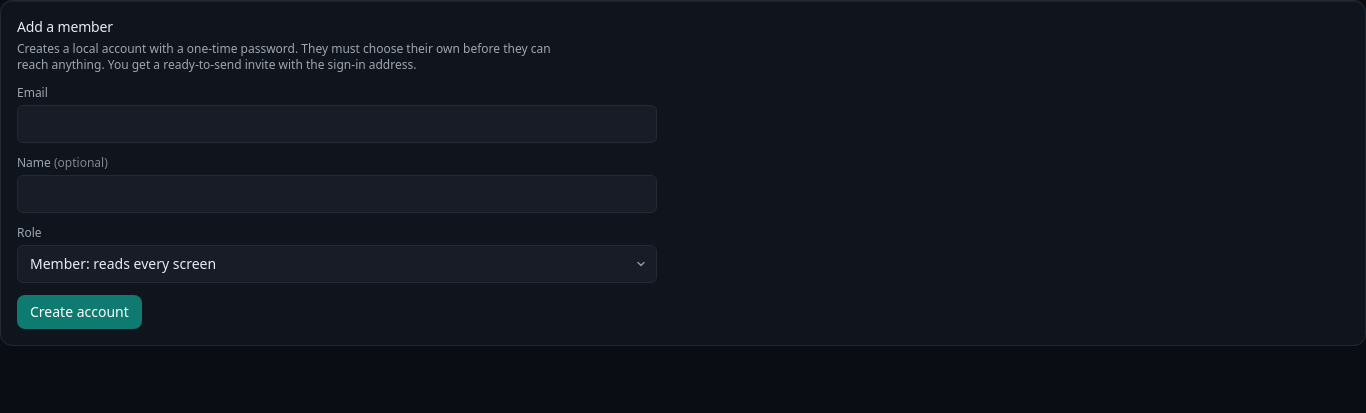
Scenario: CreateUser (W15-04) › surfaces the duplicate-address refusal rather than a generic failure
Type "dana@example.com" into the field with test id "create-user-email".
click(337, 124); type("dana@example.com")  # box [17, 105, 657, 143]
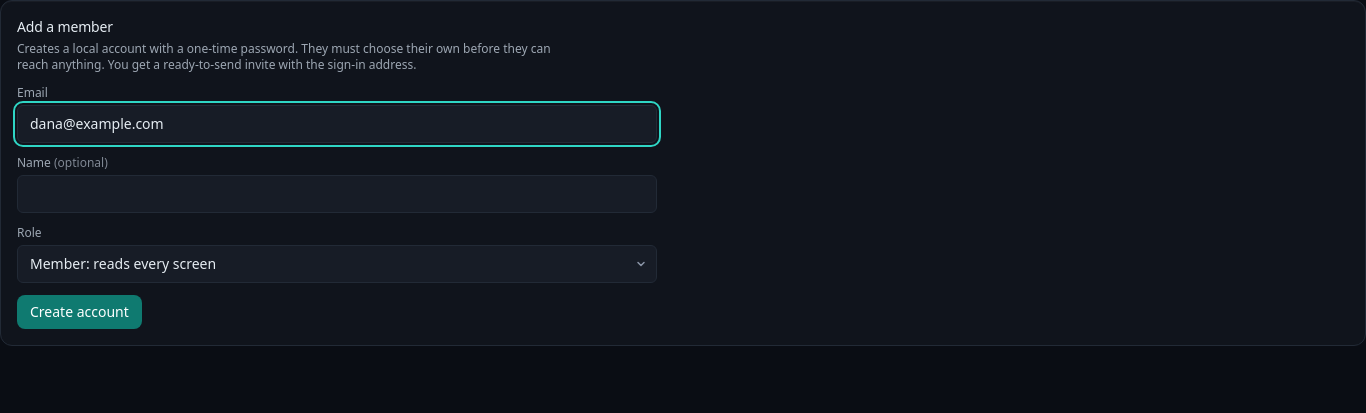
Click the button with test id "create-user-submit".
click(79, 312)  # box [17, 295, 142, 329]
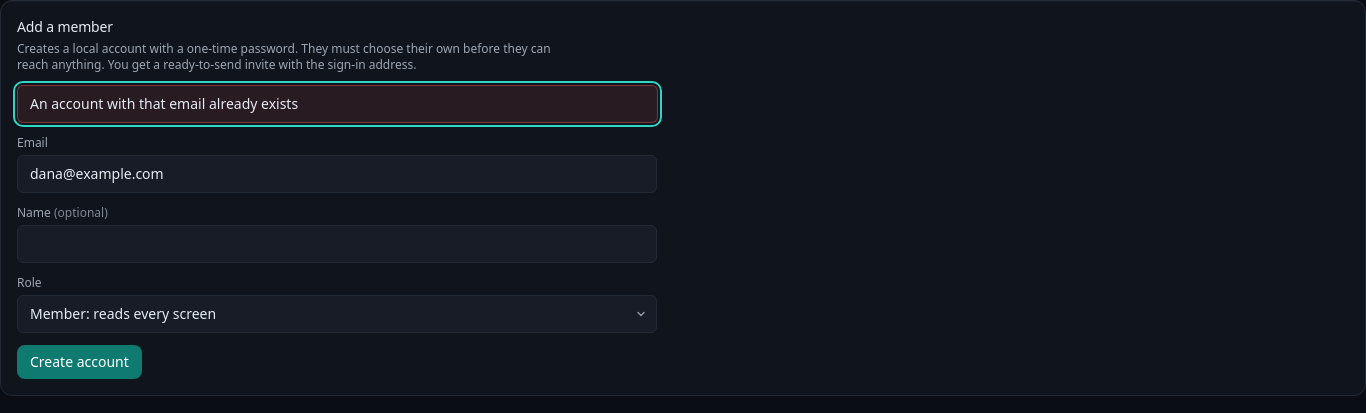
expect the text with test id "create-user-error" shows "already exists": met, box [30, 94, 298, 113]
